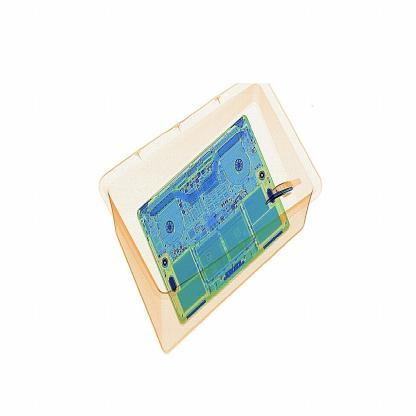pliers: (266, 182, 302, 205)
